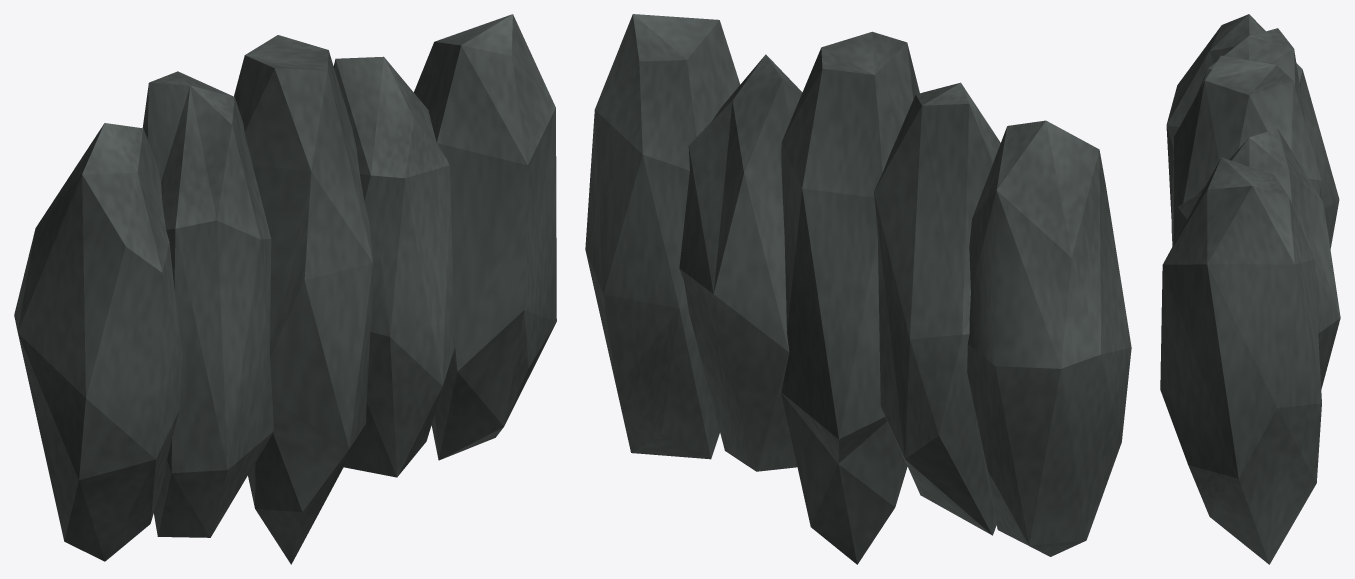
Rendered from rocks.cliff_straight.lod1.glb.
3 renders of one model, left to right at view 1: azimuth 30°, elevation 25°; view 2: azimuth 150°, elevation 25°; view 3: azimuth 270°, elevation 25°, orthographic. The views are drawn at different scales.
Visible parts, largest first — view 1: Cliff, Cliff.002, Cliff.004, Cliff.001, Cliff.003; view 2: Cliff, Cliff.002, Cliff.004, Cliff.001, Cliff.003; view 3: Cliff.004, Cliff.002, Cliff.003, Cliff, Cliff.001.
Boxes of the visible parts, x1,y1,x2,y2 form: Cliff: (14, 123, 182, 561); Cliff.002: (234, 35, 372, 564); Cliff.004: (414, 14, 556, 460); Cliff.001: (142, 71, 273, 537); Cliff.003: (333, 56, 454, 477); Cliff: (967, 120, 1131, 556); Cliff.002: (781, 31, 919, 564); Cliff.004: (585, 14, 740, 459); Cliff.001: (874, 82, 1000, 535); Cliff.003: (679, 54, 802, 471); Cliff.004: (1160, 157, 1321, 564); Cliff.002: (1171, 55, 1321, 246); Cliff.003: (1177, 128, 1340, 389); Cliff: (1166, 14, 1339, 248); Cliff.001: (1197, 28, 1305, 124).
Bounding box in the file's own units: 12.77 × 12.2 × 4.32.
1 material, 1 textured.
